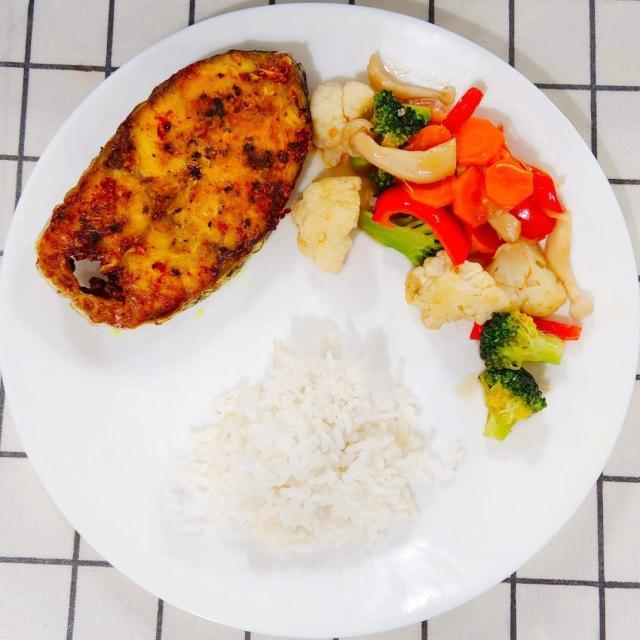Fish: (35, 45, 316, 331)
Plate: (516, 485, 639, 634), (507, 573, 516, 639)
Rice: (168, 314, 470, 581)
Vegetables: (289, 53, 596, 442)
